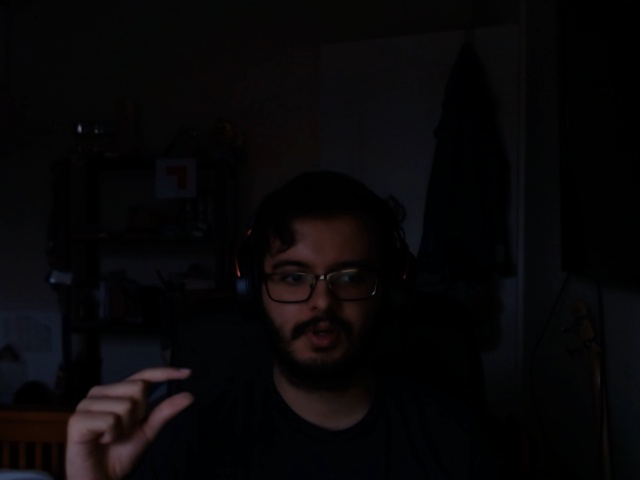Small: (48, 337, 225, 480)
